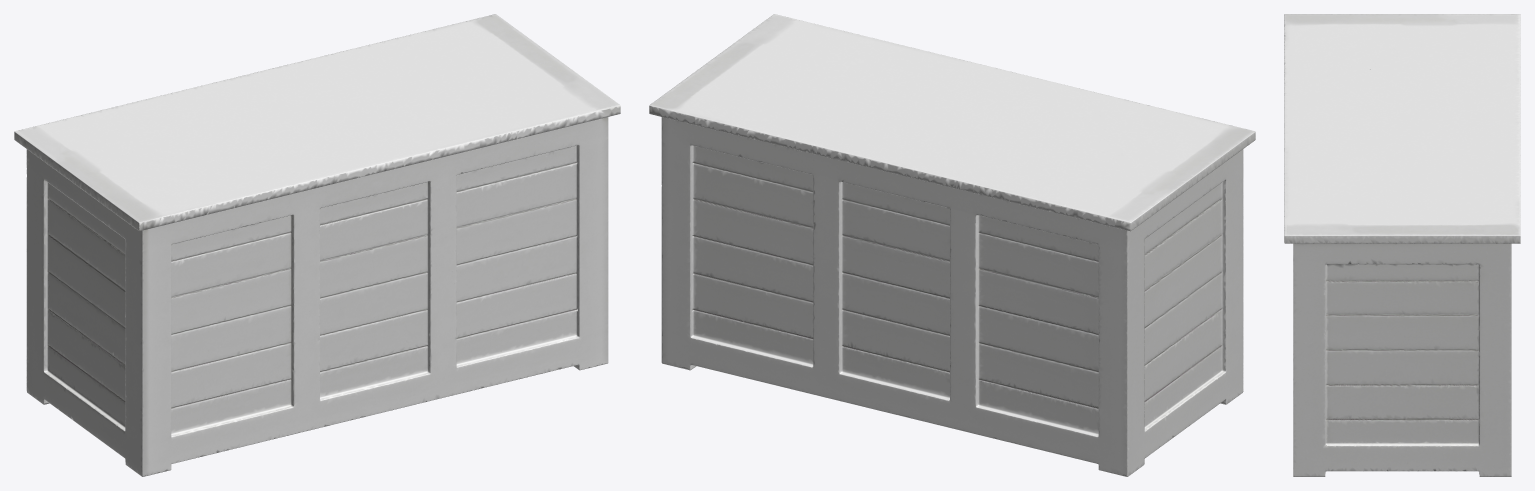
File: White_Bar_42Inches_Ta_0405182108_texture.glb
3 views of the same model, side by side, from view 1: azimuth 30°, elevation 25°; view 2: azimuth 150°, elevation 25°; view 3: azimuth 270°, elevation 25° (orthographic). The views are drawn at different scales.
Parts seen in each view (by area): view 1: Mesh_0; view 2: Mesh_0; view 3: Mesh_0.
Part boxes in pixels (x1,y1,x2,y2): Mesh_0: (14, 14, 620, 476); Mesh_0: (649, 14, 1255, 476); Mesh_0: (1284, 14, 1520, 476).
Bounding box in the file's own units: 2.07 × 1.07 × 0.9314.
Materials: 1 (1 with a texture image).
